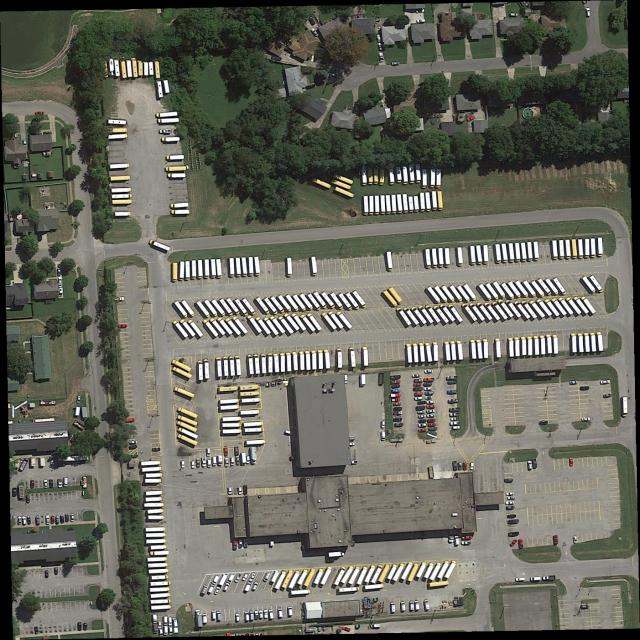large-vehicle: (263, 316, 280, 336), (477, 301, 494, 321), (484, 301, 501, 321), (336, 310, 353, 329), (440, 303, 457, 322), (469, 302, 486, 321), (492, 301, 509, 320), (498, 299, 515, 318), (573, 295, 590, 314), (396, 306, 412, 326), (418, 304, 434, 324), (522, 299, 538, 319), (370, 563, 385, 584), (300, 314, 317, 332), (505, 300, 522, 318), (536, 298, 553, 316), (173, 319, 189, 338), (278, 315, 294, 334), (291, 312, 307, 331), (307, 312, 323, 331), (328, 310, 344, 329), (203, 318, 219, 337), (404, 306, 420, 325), (425, 304, 441, 323), (433, 304, 449, 323), (462, 302, 478, 321), (515, 300, 531, 319), (544, 298, 560, 317), (558, 296, 574, 315), (566, 296, 582, 315), (581, 295, 597, 314), (173, 365, 193, 380), (448, 303, 463, 323), (149, 239, 172, 252), (180, 319, 197, 336), (529, 300, 546, 317), (210, 317, 226, 335), (225, 317, 241, 335), (233, 316, 249, 334), (284, 313, 300, 331), (322, 312, 338, 330), (383, 289, 399, 307), (411, 306, 427, 324), (443, 560, 458, 579), (248, 314, 263, 333), (552, 297, 567, 316), (407, 562, 421, 582), (177, 433, 198, 446), (177, 420, 198, 433), (178, 406, 199, 419), (187, 319, 203, 336), (270, 316, 286, 333), (218, 317, 233, 335), (256, 316, 271, 334), (582, 275, 597, 293), (204, 299, 219, 317), (234, 298, 249, 316), (264, 297, 279, 315), (292, 293, 307, 311), (321, 291, 336, 309), (338, 292, 353, 310), (389, 287, 404, 305), (334, 566, 348, 585), (341, 565, 355, 584), (312, 176, 332, 189), (334, 172, 354, 185), (434, 285, 449, 302), (537, 278, 552, 295), (531, 280, 546, 297), (515, 280, 530, 297), (501, 282, 516, 299), (457, 285, 472, 302), (270, 296, 285, 313), (352, 290, 367, 307), (427, 286, 442, 303), (177, 414, 198, 426), (178, 427, 199, 439), (174, 386, 195, 398), (553, 277, 567, 295), (508, 280, 522, 298), (486, 282, 500, 300), (220, 298, 234, 316), (242, 297, 256, 315), (429, 562, 443, 580), (438, 560, 451, 579), (401, 561, 414, 580), (348, 566, 361, 585), (285, 294, 300, 310), (335, 187, 355, 199), (172, 359, 192, 371), (590, 275, 604, 292), (545, 277, 559, 294), (524, 280, 538, 297), (493, 281, 507, 298), (479, 283, 493, 300), (463, 284, 477, 301), (212, 299, 226, 316), (226, 297, 240, 314), (256, 297, 270, 314), (278, 294, 292, 311), (300, 293, 314, 310), (307, 293, 321, 310), (330, 292, 344, 309), (346, 292, 360, 309), (442, 285, 456, 302), (450, 284, 463, 302), (304, 568, 317, 586), (392, 564, 405, 582), (288, 570, 301, 588), (321, 565, 333, 584), (379, 563, 391, 582), (332, 178, 351, 190), (197, 301, 211, 317), (175, 300, 188, 317), (314, 291, 327, 308), (356, 567, 369, 584), (282, 570, 294, 588), (182, 300, 195, 316), (416, 561, 428, 578), (424, 563, 436, 579), (275, 572, 287, 588), (365, 565, 376, 582), (297, 569, 309, 584), (622, 395, 629, 418), (388, 563, 398, 579), (157, 111, 179, 118), (310, 256, 318, 275), (425, 342, 433, 361), (314, 569, 324, 584), (429, 580, 450, 587), (457, 339, 464, 360), (324, 349, 331, 369), (349, 347, 356, 367), (362, 346, 369, 366), (501, 242, 508, 262), (254, 256, 261, 276), (216, 357, 223, 377), (247, 354, 254, 374), (470, 339, 477, 359), (444, 340, 451, 360), (520, 242, 527, 261), (533, 241, 540, 260), (476, 245, 483, 264), (204, 259, 211, 278), (248, 257, 255, 276), (508, 242, 515, 261), (406, 343, 413, 362), (430, 168, 437, 187), (450, 341, 457, 360), (495, 244, 502, 262), (241, 257, 248, 275), (425, 249, 432, 267), (151, 604, 172, 610), (109, 127, 127, 134), (286, 352, 292, 372), (261, 353, 267, 373), (254, 354, 260, 374), (527, 241, 533, 261), (565, 239, 571, 259), (172, 262, 178, 282), (179, 261, 185, 281), (198, 259, 204, 279), (235, 257, 241, 277), (369, 195, 375, 215), (142, 466, 162, 472), (224, 356, 230, 376), (337, 348, 343, 368), (291, 589, 311, 595), (340, 586, 360, 592), (380, 165, 386, 185), (111, 187, 131, 193), (110, 163, 130, 169), (167, 165, 187, 171), (483, 338, 489, 358), (508, 337, 514, 357), (584, 332, 590, 352), (591, 332, 597, 352), (419, 342, 425, 362), (250, 446, 257, 463), (157, 81, 164, 98), (126, 61, 133, 78), (299, 351, 305, 370), (274, 353, 280, 372), (219, 386, 238, 392), (245, 427, 264, 433), (244, 421, 263, 427), (223, 416, 242, 422), (220, 398, 239, 404), (242, 397, 261, 403), (572, 239, 578, 258), (387, 252, 393, 271), (148, 562, 167, 568), (229, 258, 235, 277), (211, 259, 217, 278), (381, 195, 387, 214), (229, 356, 235, 375), (268, 353, 274, 372), (108, 133, 127, 139), (151, 592, 170, 598), (112, 193, 131, 199), (553, 334, 559, 353), (477, 339, 483, 358), (540, 335, 546, 354), (578, 333, 584, 352), (597, 332, 603, 351), (413, 343, 419, 362), (292, 352, 298, 370), (221, 404, 239, 410), (114, 59, 120, 77), (108, 119, 126, 125), (171, 202, 189, 208), (151, 599, 172, 604), (496, 337, 501, 358), (102, 61, 108, 78), (163, 136, 180, 142), (280, 352, 285, 372), (204, 359, 209, 379), (141, 460, 161, 465), (240, 391, 260, 396), (240, 385, 260, 390), (552, 239, 557, 259), (484, 244, 489, 264), (217, 258, 222, 278), (150, 587, 170, 592), (585, 238, 590, 258), (364, 195, 369, 215), (198, 360, 203, 380), (236, 355, 241, 375), (312, 350, 317, 370), (438, 190, 443, 210), (362, 166, 367, 186), (159, 118, 179, 123), (535, 335, 540, 355), (433, 341, 438, 361), (121, 62, 127, 78), (396, 166, 402, 182), (306, 351, 311, 370), (318, 350, 323, 369), (148, 557, 167, 562), (246, 440, 265, 445), (515, 242, 520, 261), (559, 239, 564, 258), (591, 238, 596, 257), (598, 237, 603, 256), (470, 246, 475, 265), (432, 248, 437, 267), (438, 248, 443, 267), (445, 248, 450, 267), (458, 247, 463, 266), (149, 569, 168, 574), (186, 261, 191, 280), (192, 260, 197, 279), (287, 258, 292, 277), (375, 195, 380, 214), (403, 194, 408, 213), (223, 429, 242, 434), (241, 410, 260, 415), (365, 584, 384, 589), (432, 191, 437, 210), (111, 176, 130, 181), (368, 165, 373, 184), (374, 165, 379, 184), (403, 166, 408, 185), (422, 168, 427, 187), (437, 168, 442, 187), (172, 209, 191, 214), (515, 337, 520, 356), (522, 336, 527, 355), (528, 336, 533, 355), (547, 334, 552, 353), (572, 333, 577, 352), (164, 80, 171, 93), (223, 422, 241, 427), (578, 239, 583, 257), (387, 195, 392, 213), (392, 195, 397, 213), (113, 199, 131, 204), (168, 173, 186, 178), (148, 508, 165, 513), (109, 59, 114, 76), (133, 61, 138, 78), (155, 61, 160, 78), (151, 575, 168, 580), (151, 544, 167, 549), (146, 539, 166, 543), (146, 527, 166, 531), (146, 533, 166, 537), (146, 496, 162, 501), (146, 490, 162, 495), (146, 473, 162, 478), (151, 581, 171, 585), (409, 196, 414, 212), (390, 168, 395, 184), (115, 211, 131, 216), (360, 373, 366, 386), (145, 503, 164, 507), (421, 193, 425, 212), (150, 551, 169, 555), (149, 515, 164, 520), (427, 192, 431, 210), (167, 155, 185, 159), (149, 61, 154, 75), (146, 479, 161, 483), (139, 62, 143, 75), (145, 62, 149, 75)
small-vehicle: (194, 609, 203, 628), (218, 573, 228, 586), (243, 581, 252, 593), (310, 27, 320, 37), (234, 572, 243, 583), (263, 571, 272, 582), (448, 529, 455, 543), (308, 16, 317, 26), (466, 114, 476, 123), (526, 460, 534, 471), (207, 583, 215, 594), (543, 575, 557, 581), (240, 452, 247, 464), (213, 585, 221, 595), (227, 573, 235, 583), (251, 581, 259, 591), (446, 375, 459, 381), (552, 535, 559, 546), (271, 55, 282, 62), (305, 83, 316, 90), (531, 458, 538, 469), (424, 600, 431, 611), (152, 623, 159, 634), (509, 539, 518, 547), (508, 531, 520, 537), (506, 513, 518, 519), (212, 575, 220, 584), (125, 417, 137, 423), (531, 575, 541, 582), (315, 80, 325, 87), (377, 42, 384, 52), (201, 585, 208, 595), (223, 582, 230, 592), (242, 572, 249, 582), (249, 572, 256, 582), (390, 374, 401, 380), (515, 576, 526, 582), (518, 538, 524, 549), (448, 398, 459, 404), (426, 399, 437, 405), (600, 379, 611, 385), (452, 460, 458, 471), (212, 455, 218, 466), (454, 535, 460, 546), (232, 540, 238, 551), (269, 537, 275, 548), (390, 602, 396, 613), (401, 601, 407, 612), (572, 534, 579, 543), (342, 626, 351, 633), (253, 611, 260, 620), (12, 487, 18, 497), (447, 379, 457, 385), (508, 519, 520, 524), (450, 420, 460, 426), (506, 504, 516, 510), (160, 128, 172, 133), (379, 52, 385, 62), (218, 455, 224, 465), (163, 625, 169, 635), (211, 610, 217, 620), (202, 614, 208, 624), (57, 478, 63, 488), (195, 458, 201, 468), (424, 377, 435, 382), (447, 389, 458, 394), (390, 388, 401, 393), (505, 500, 516, 505), (449, 407, 460, 412), (370, 624, 381, 629), (539, 420, 550, 425), (225, 456, 230, 467), (415, 600, 420, 611), (217, 611, 222, 622), (269, 609, 274, 620), (288, 606, 293, 617), (114, 296, 125, 301), (423, 381, 432, 387), (424, 368, 433, 374), (418, 427, 427, 433), (418, 422, 427, 428), (327, 72, 336, 78), (569, 457, 575, 466), (152, 614, 158, 623), (16, 516, 22, 525), (391, 380, 401, 385), (580, 604, 590, 609), (394, 422, 404, 427), (428, 426, 438, 431), (450, 412, 460, 417), (427, 413, 437, 418), (427, 418, 437, 423), (417, 18, 427, 23), (416, 8, 426, 13), (586, 7, 591, 17), (201, 456, 206, 466), (410, 601, 415, 611), (163, 615, 168, 625), (77, 622, 82, 632), (245, 611, 250, 621), (250, 611, 255, 621), (259, 610, 264, 620), (264, 609, 269, 619), (278, 608, 283, 618), (244, 539, 249, 549), (22, 516, 27, 526), (43, 479, 48, 489), (380, 420, 386, 428), (58, 285, 64, 293), (285, 429, 293, 435), (168, 627, 174, 635), (53, 567, 59, 575), (180, 460, 186, 468), (414, 391, 423, 396), (412, 373, 421, 378), (381, 431, 386, 440), (452, 425, 461, 430), (451, 416, 460, 421), (427, 408, 436, 413), (416, 406, 425, 411), (393, 407, 402, 412), (393, 401, 402, 406), (507, 495, 516, 500), (57, 268, 62, 277), (462, 541, 471, 546), (506, 491, 515, 496), (377, 33, 382, 42), (77, 395, 82, 404), (58, 277, 63, 286), (505, 478, 514, 483), (569, 380, 578, 385), (580, 386, 589, 391), (603, 393, 612, 398), (463, 462, 468, 471), (129, 444, 138, 449), (129, 454, 138, 459), (228, 486, 233, 495), (238, 486, 243, 495), (173, 618, 178, 627), (238, 539, 243, 548), (235, 613, 240, 622), (44, 570, 49, 579), (26, 494, 31, 503), (63, 478, 68, 487), (413, 378, 424, 382), (390, 393, 401, 397), (46, 514, 50, 525), (49, 478, 53, 489), (469, 462, 475, 469), (425, 386, 433, 391), (391, 384, 401, 388), (415, 396, 423, 401), (418, 414, 426, 419), (427, 404, 435, 409), (344, 375, 349, 383), (510, 12, 518, 17), (458, 462, 463, 470), (230, 457, 235, 465), (236, 455, 240, 465), (168, 617, 173, 625), (83, 622, 88, 630), (60, 514, 64, 524), (65, 513, 69, 523), (70, 514, 75, 522), (30, 480, 35, 488), (151, 447, 161, 451), (425, 391, 434, 395), (414, 387, 423, 391), (428, 423, 437, 427), (393, 418, 402, 422), (394, 411, 403, 415), (417, 410, 426, 414), (463, 536, 472, 540), (243, 485, 247, 494), (208, 458, 212, 467), (27, 515, 31, 524), (36, 516, 40, 525), (414, 382, 421, 387), (159, 629, 164, 636), (390, 398, 401, 401), (419, 419, 427, 423), (418, 400, 426, 404), (392, 61, 400, 65), (348, 436, 356, 440), (582, 417, 590, 421), (247, 455, 251, 463), (51, 516, 55, 524), (56, 516, 60, 524), (191, 460, 195, 468), (129, 440, 137, 444), (119, 324, 127, 328), (425, 395, 432, 399), (23, 139, 27, 146), (158, 621, 162, 628), (34, 627, 38, 634), (347, 443, 355, 446)
